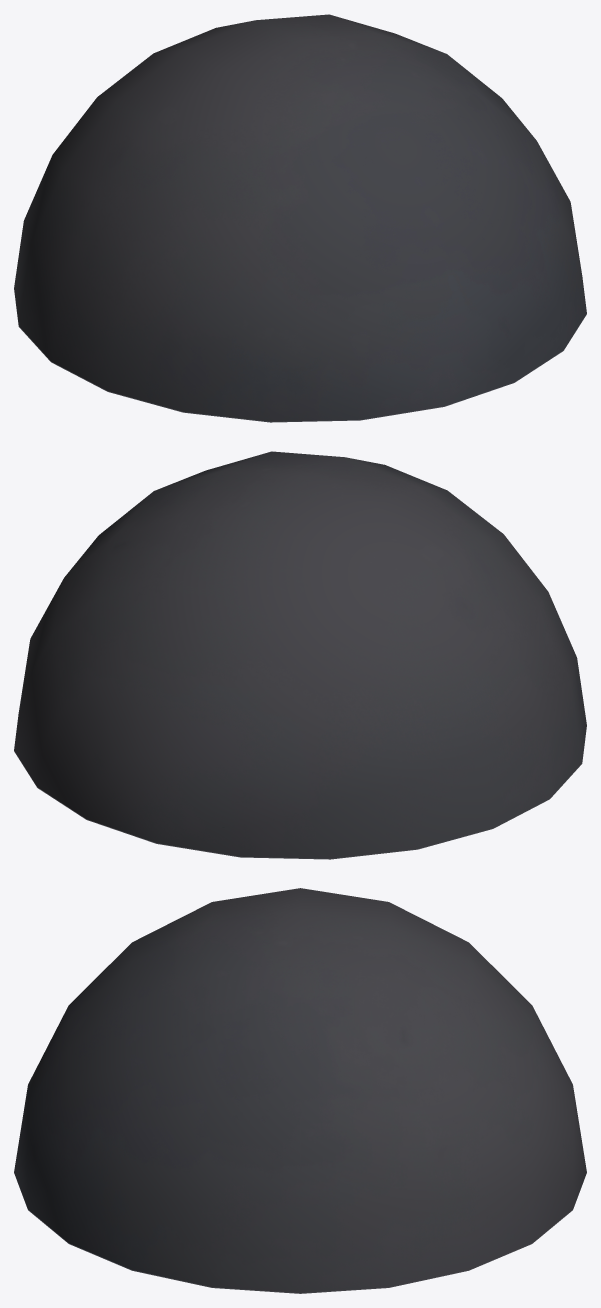
Rendered from SM_Laser_Base.glb.
3 views of the same model, one above another, from view 1: azimuth 30°, elevation 25°; view 2: azimuth 150°, elevation 25°; view 3: azimuth 270°, elevation 25° (orthographic).
Size of the model in its own units: 2 by 1 by 2.
1 material, 1 textured.
